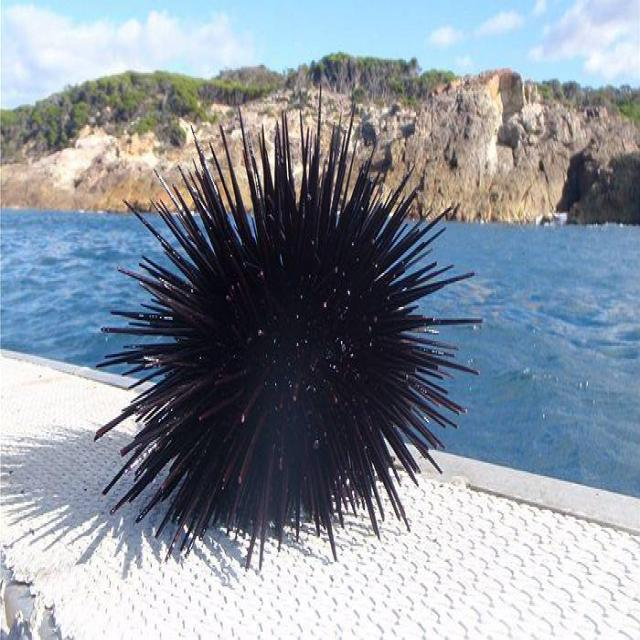Urchin: (92, 80, 486, 574)
